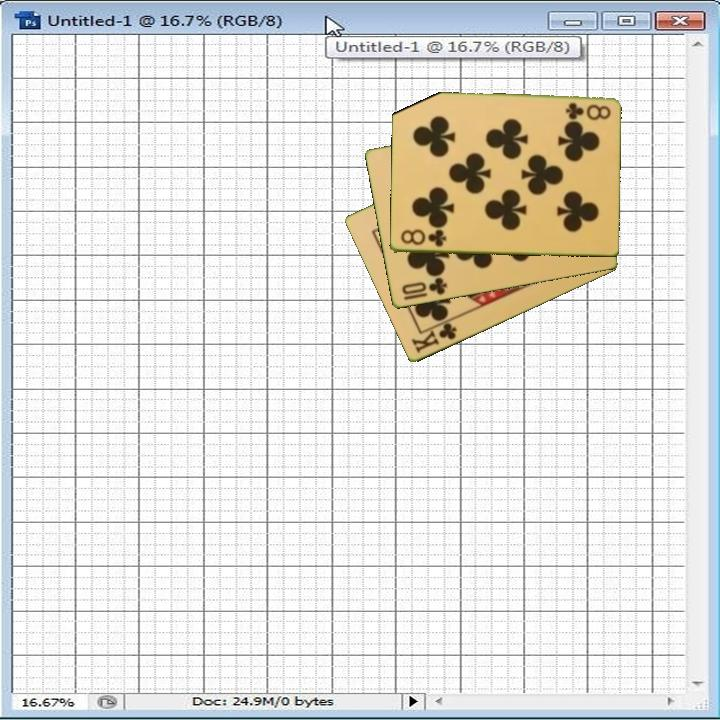10c: (398, 274, 449, 298)
8c: (397, 227, 449, 250), (562, 99, 613, 121)
Kc: (408, 316, 460, 357)
